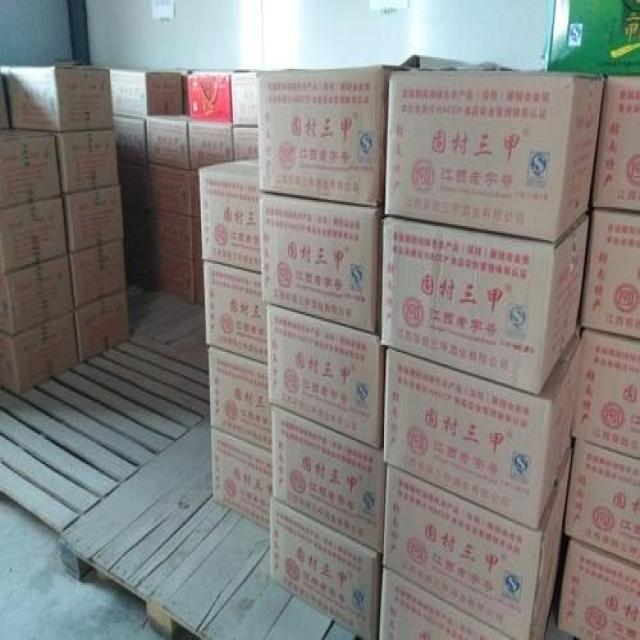box: (383, 328, 580, 530), (381, 214, 588, 397), (384, 72, 604, 243), (381, 447, 572, 640), (259, 67, 392, 205), (260, 193, 384, 333), (271, 404, 385, 555), (266, 304, 385, 447), (269, 497, 380, 638), (378, 569, 516, 640), (563, 440, 640, 566), (572, 331, 640, 461), (556, 542, 640, 640), (580, 210, 640, 338), (6, 66, 114, 133), (198, 160, 260, 274), (547, 0, 640, 76), (591, 74, 640, 212), (202, 262, 268, 364), (207, 348, 271, 450), (210, 428, 273, 531), (0, 312, 79, 393), (0, 254, 74, 336), (1, 198, 67, 276), (0, 128, 61, 207), (61, 183, 124, 254), (54, 128, 119, 195), (76, 288, 132, 364), (68, 240, 127, 309), (111, 67, 183, 117), (183, 67, 233, 122), (187, 117, 233, 171), (146, 114, 189, 169), (148, 164, 189, 216), (157, 252, 195, 304), (157, 209, 192, 259), (115, 116, 148, 166), (232, 72, 260, 128), (232, 128, 260, 162)
